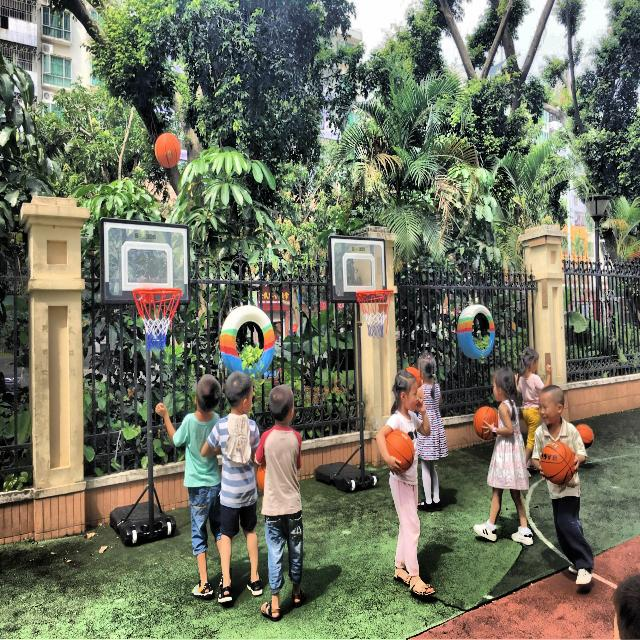board: (540, 440, 576, 486), (156, 133, 181, 168), (474, 406, 498, 441)
rim: (133, 287, 182, 352), (356, 290, 393, 338)
